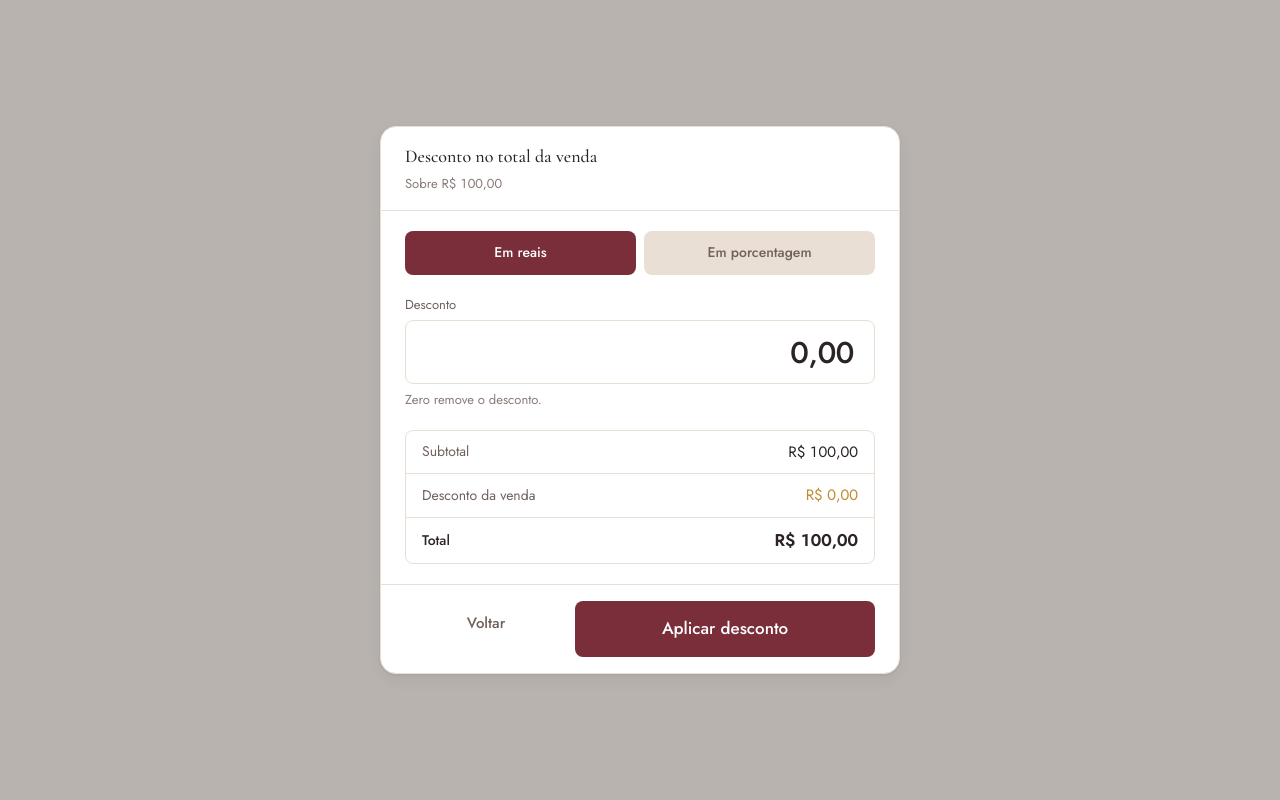
it: ModalDesconto — dentro da alçada › mostra o percentual efetivo da venda enquanto ainda dá para mudar
Click the button "Em porcentagem".
click(760, 252)  # box x1=644 y1=230 x2=875 y2=274
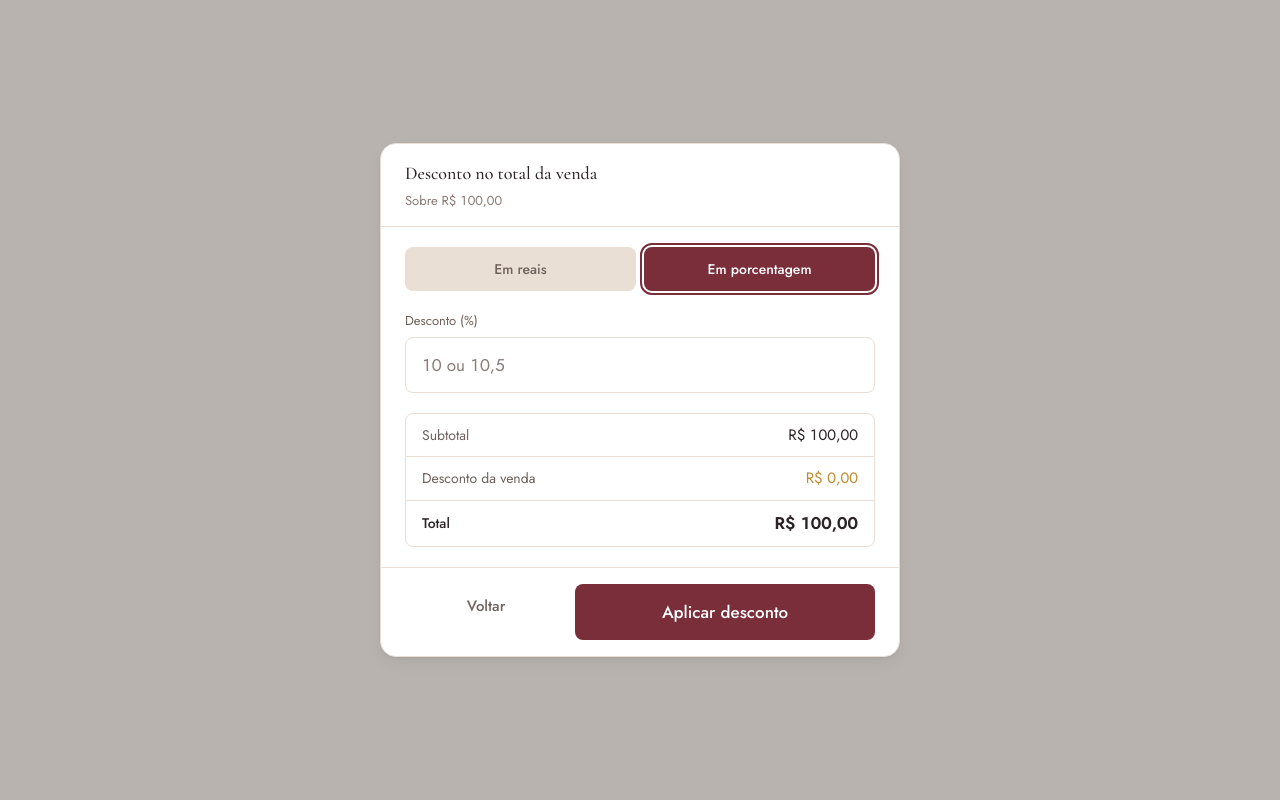
Type "5" into the field labelled "Desconto (%)".
click(640, 365); type("5")  # box x1=405 y1=337 x2=875 y2=393
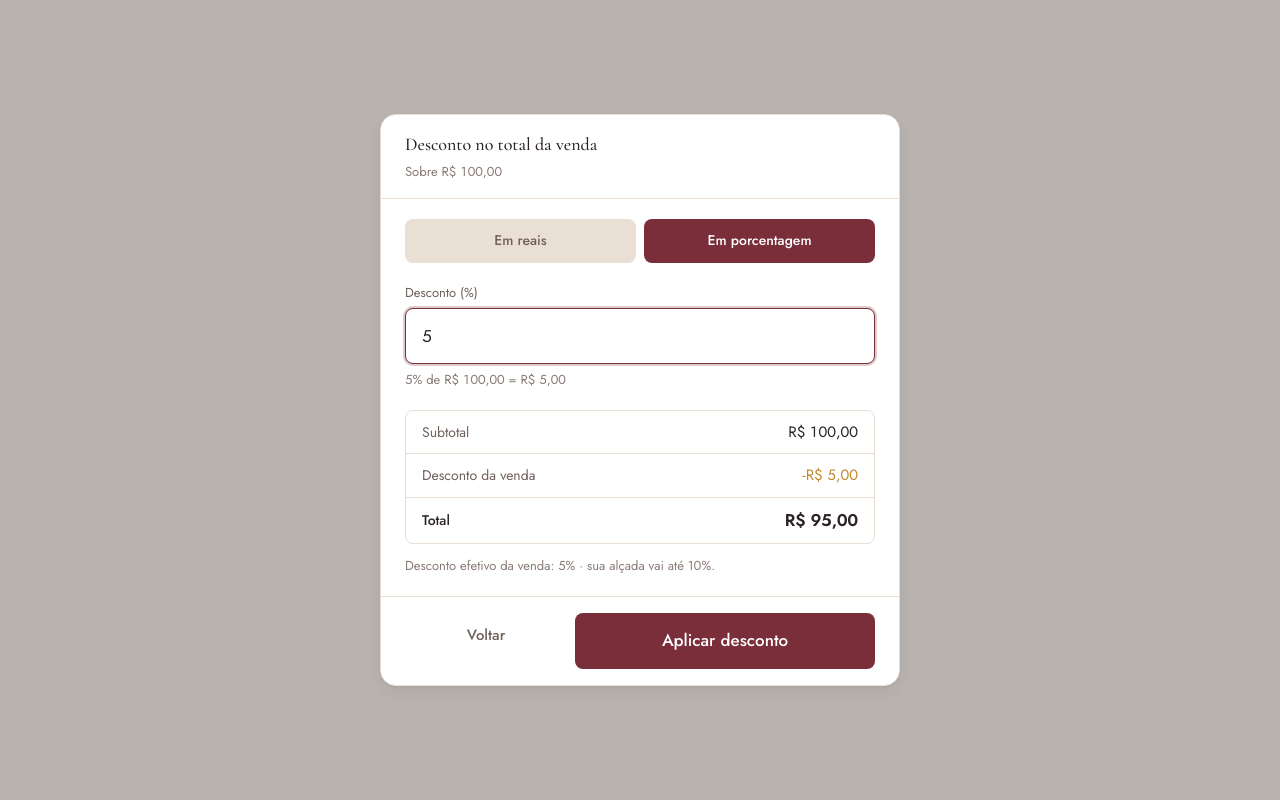
Now the text "Desconto efetivo da venda: 5% · sua alçada vai até 10%." is shown, box x1=405 y1=556 x2=715 y2=575
